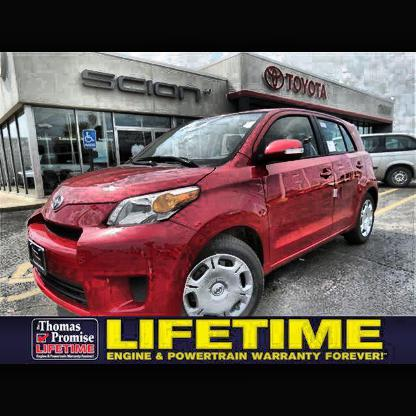Scion xD Hatchback 2012: (27, 107, 379, 321)
